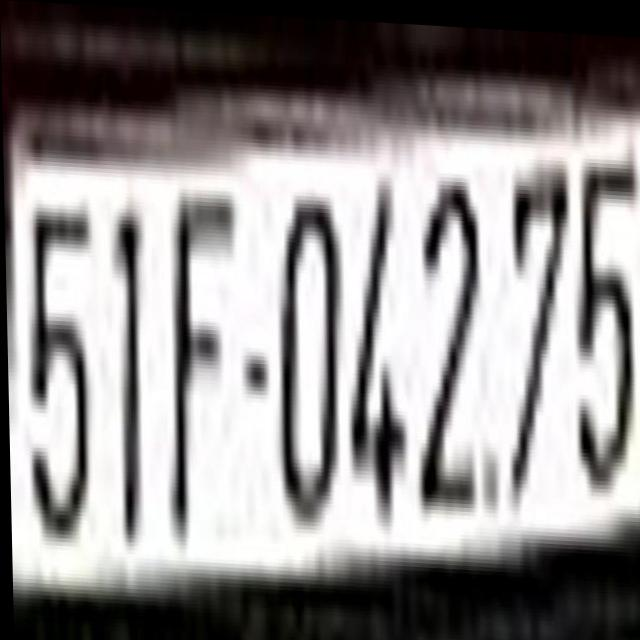0: (274, 180, 340, 535)
1: (105, 198, 144, 538)
2: (411, 178, 485, 526)
4: (342, 175, 410, 512)
5: (21, 191, 90, 539), (572, 151, 640, 503)
7: (502, 155, 572, 503)
F: (162, 170, 236, 546)
